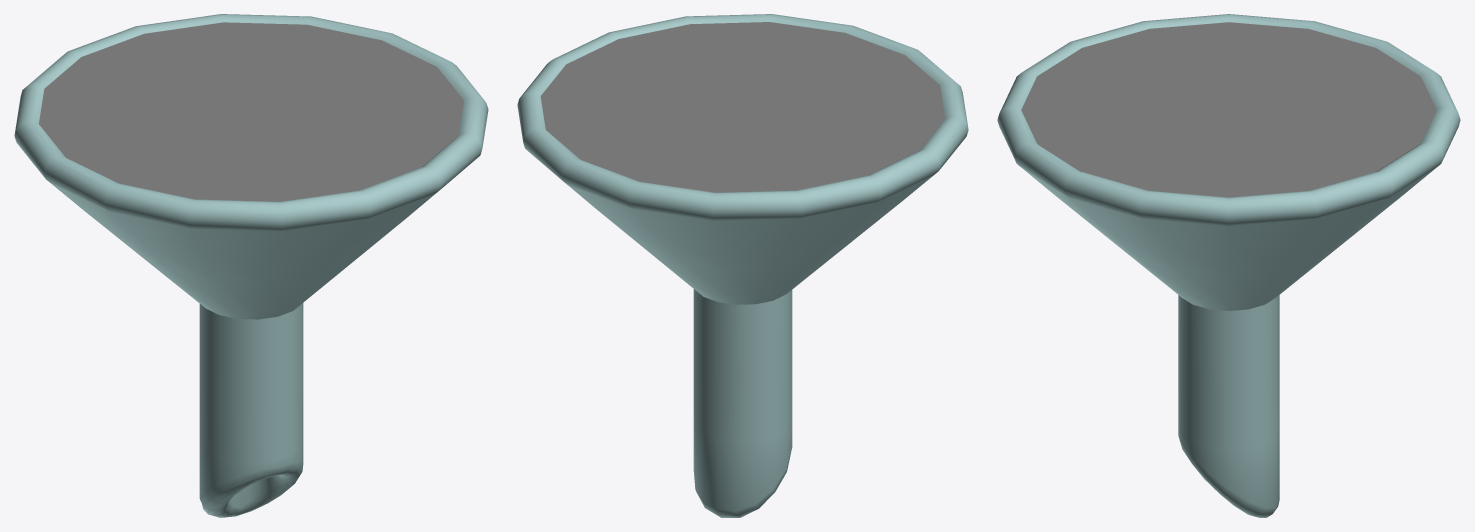
File: LastLuna_Model_Station_Glass_Funnel.fbx
3 views of the same model, side by side, from view 1: azimuth 30°, elevation 25°; view 2: azimuth 150°, elevation 25°; view 3: azimuth 270°, elevation 25° (orthographic). The views are drawn at different scales.
Parts seen in each view (by area): view 1: Funnel001, Funnel_Content001; view 2: Funnel001, Funnel_Content001; view 3: Funnel001, Funnel_Content001.
Part boxes in pixels (x1,y1,x2,y2): Funnel001: [14, 14, 488, 517]; Funnel_Content001: [39, 22, 463, 201]; Funnel001: [517, 14, 968, 517]; Funnel_Content001: [540, 22, 945, 192]; Funnel001: [997, 14, 1460, 517]; Funnel_Content001: [1021, 22, 1436, 197].
Size of the model in its own units: 80 by 77.5 by 80.
